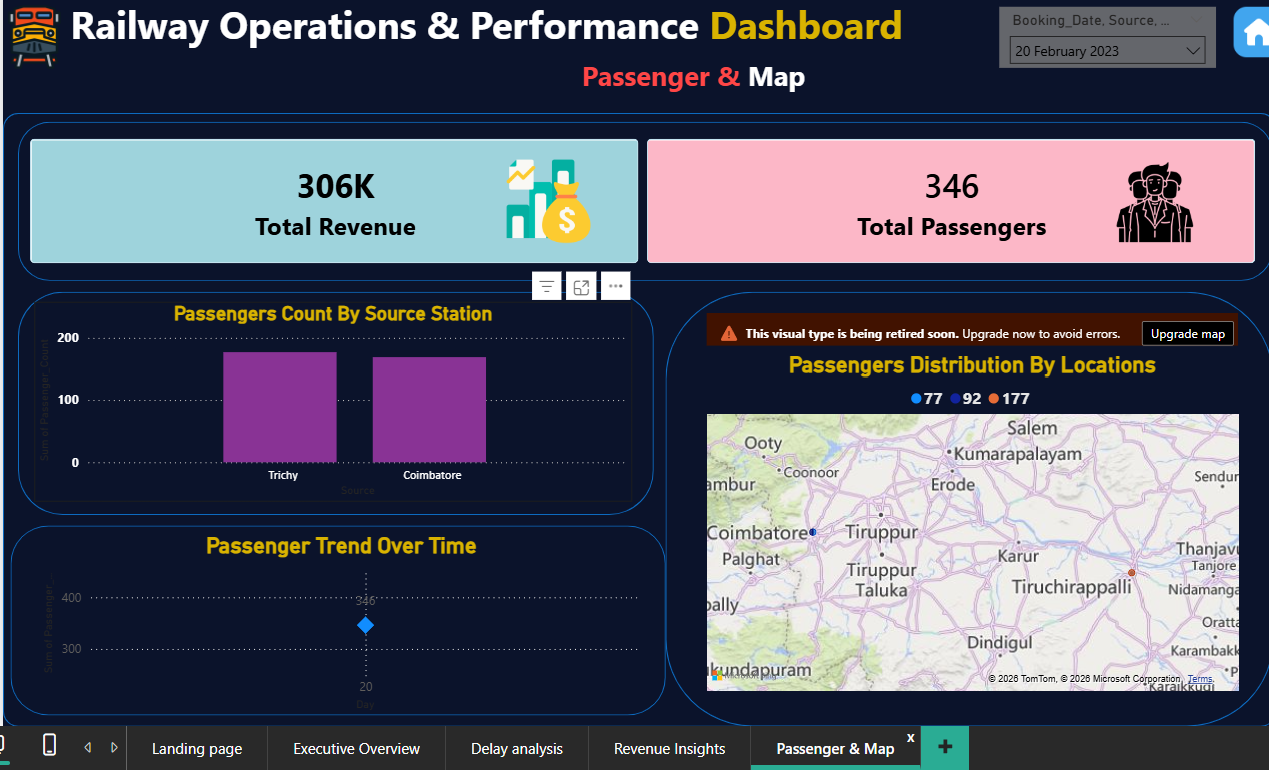

The dashboard page shown, as its layout file describes it:
{"tool":"powerbi","page":{"name":"Passenger & Map","canvas":[1280,720],"ordinal":4},"visuals":[{"type":"shape","box":[650.5,295.4,578.4,227.5],"z":0},{"type":"shape","box":[131.3,341.1,598.8,193.9],"z":1000},{"type":"shape","box":[535.2,359.5,367.8,178.4],"z":2000},{"type":"image","box":[0,0,61.7,86.4],"z":3000},{"type":"textbox","box":[61.7,0,916.6,63.1],"z":4000},{"type":"shape","box":[0,118.2,1249.7,602.5],"z":5000},{"type":"shape","box":[15.2,125.8,1231.9,156.2],"z":6000},{"type":"cardVisual","fields":{"Data":["Measure_Table.Total Revenue","Measure_Table.Total Passengers"]},"box":[9.7,125.8,1237.4,156.2],"z":7000},{"type":"textbox","box":[563.6,57.7,376.2,59.1],"z":8000},{"type":"shape","box":[15.3,292.7,624.2,219.2],"z":9000},{"type":"columnChart","title":"Passengers Count By Source Station","fields":{"Y":["Sum(railways.Passenger_Count)"],"Category":["railways.Source"]},"box":[30.6,302.9,586.8,196.6],"z":10000},{"type":"shape","box":[6.8,523,643.2,186.5],"z":11000},{"type":"lineChart","title":"Passenger Trend Over Time","fields":{"Category":["railways.Booking_Date.Variation.Date Hierarchy.Day"],"Y":["Sum(railways.Passenger_Count)"]},"box":[34.9,530.1,595.6,179.1],"z":12000},{"type":"shape","box":[650.9,292.7,597,426.7],"z":13000},{"type":"image","box":[487.2,162.9,96.6,82.2],"z":14000},{"type":"image","box":[1088.3,162.9,85,82.2],"z":15000},{"type":"slicer","fields":{"Values":["railways.Booking_Date","railways.Source","railways.Ticket_Class"]},"box":[978.4,13.7,212.7,60.4],"z":16000},{"type":"map","title":"Passengers Distribution By Locations","fields":{"Category":["railways.Source"],"Series":["railways.Passenger_Count"]},"box":[685.9,314.5,531.5,375.7],"z":17000},{"type":"image","box":[1197.9,13.7,70,49.4],"z":18000}]}

Visuals, with their boxes on the page's 1280x720 design canvas (x1, y1, x2, y2). These are canvas units, not pixel positions in the 1269x770 screenshot, which may show the page scaled, cropped or inside an application window:
shape: {"x1": 650, "y1": 295, "x2": 1229, "y2": 523}
shape: {"x1": 131, "y1": 341, "x2": 730, "y2": 535}
shape: {"x1": 535, "y1": 360, "x2": 903, "y2": 538}
image: {"x1": 0, "y1": 0, "x2": 62, "y2": 86}
textbox: {"x1": 62, "y1": 0, "x2": 978, "y2": 63}
shape: {"x1": 0, "y1": 118, "x2": 1250, "y2": 721}
shape: {"x1": 15, "y1": 126, "x2": 1247, "y2": 282}
cardVisual - Measure_Table.Total Revenue x Measure_Table.Total Passengers: {"x1": 10, "y1": 126, "x2": 1247, "y2": 282}
textbox: {"x1": 564, "y1": 58, "x2": 940, "y2": 117}
shape: {"x1": 15, "y1": 293, "x2": 640, "y2": 512}
"Passengers Count By Source Station" columnChart: {"x1": 31, "y1": 303, "x2": 617, "y2": 500}
shape: {"x1": 7, "y1": 523, "x2": 650, "y2": 710}
"Passenger Trend Over Time" lineChart: {"x1": 35, "y1": 530, "x2": 630, "y2": 709}
shape: {"x1": 651, "y1": 293, "x2": 1248, "y2": 719}
image: {"x1": 487, "y1": 163, "x2": 584, "y2": 245}
image: {"x1": 1088, "y1": 163, "x2": 1173, "y2": 245}
slicer - railways.Booking_Date x railways.Source: {"x1": 978, "y1": 14, "x2": 1191, "y2": 74}
"Passengers Distribution By Locations" map: {"x1": 686, "y1": 314, "x2": 1217, "y2": 690}
image: {"x1": 1198, "y1": 14, "x2": 1268, "y2": 63}
